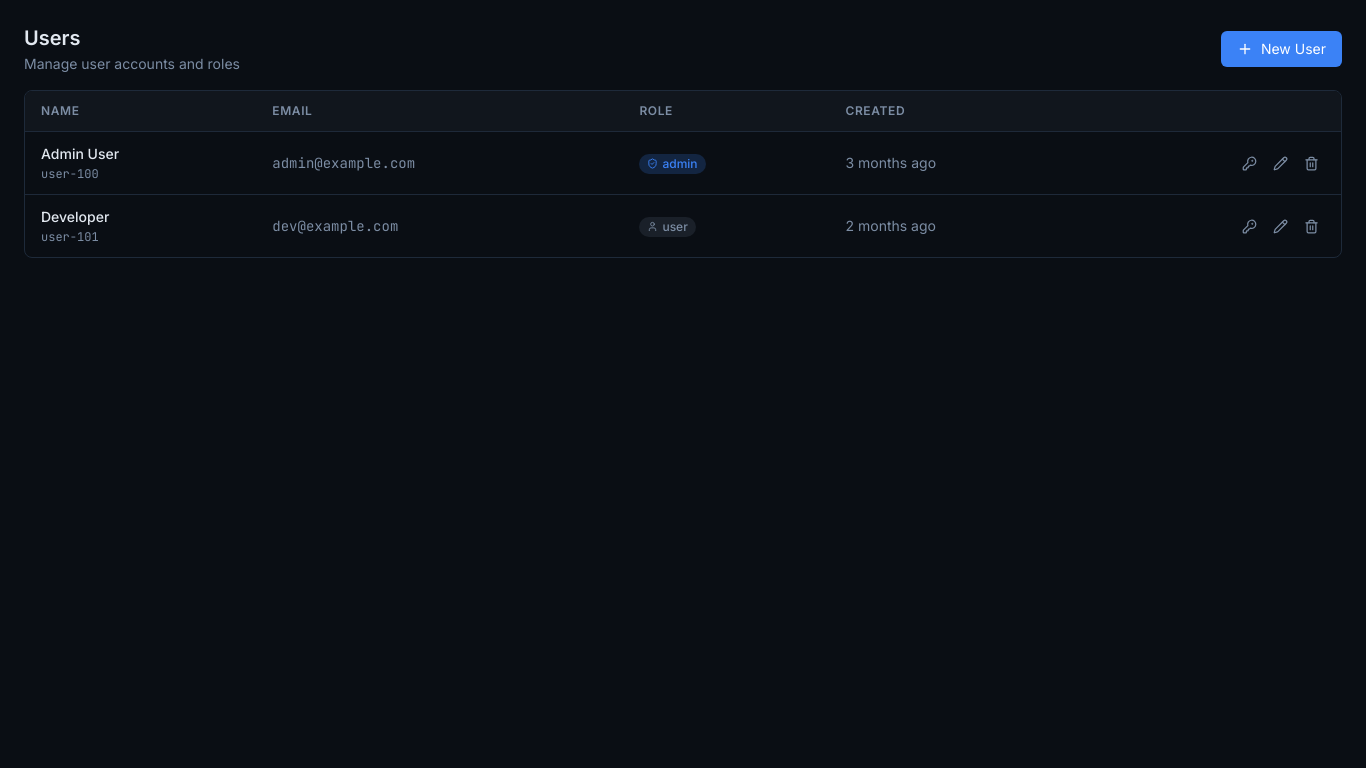
AdminPage › opens create user modal when New User button is clicked
Check: the text "Admin User" is shown, box [41,145,119,162]
# Click the header New User button
Click the button "New User" at (1281, 49), box [1221,31,1342,67]
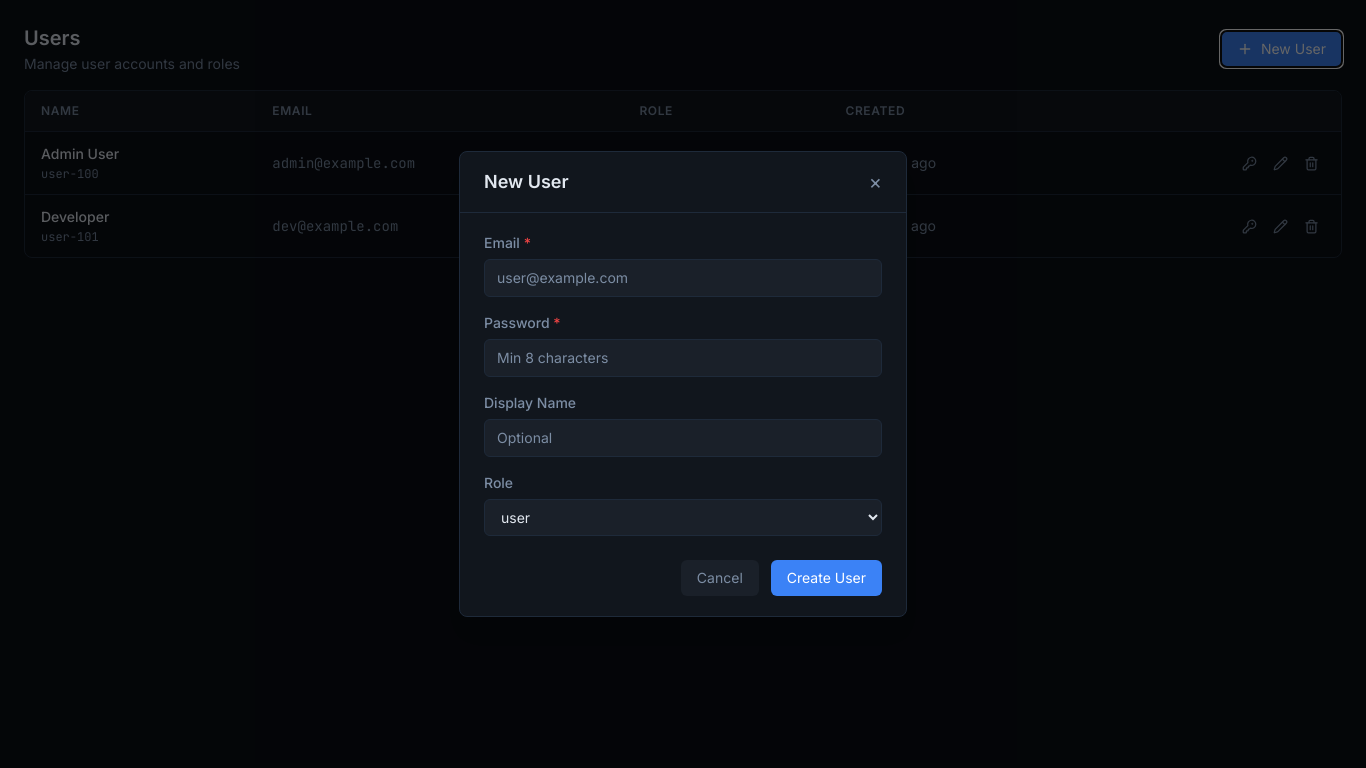
Check: the field with placeholder "user@example.com" is shown, box [484,259,882,297]
Check: the password field with placeholder "Min 8 characters" is shown, box [484,339,882,377]
